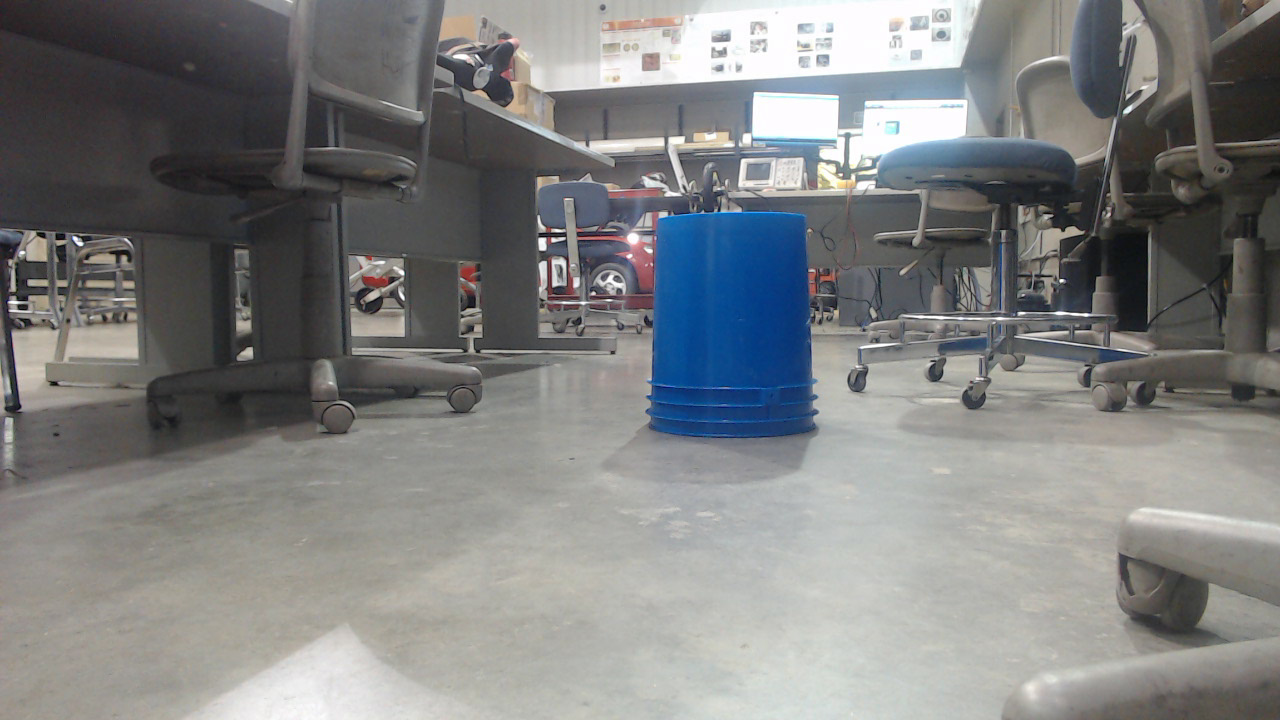blue_bucket: (649, 214, 828, 448)
